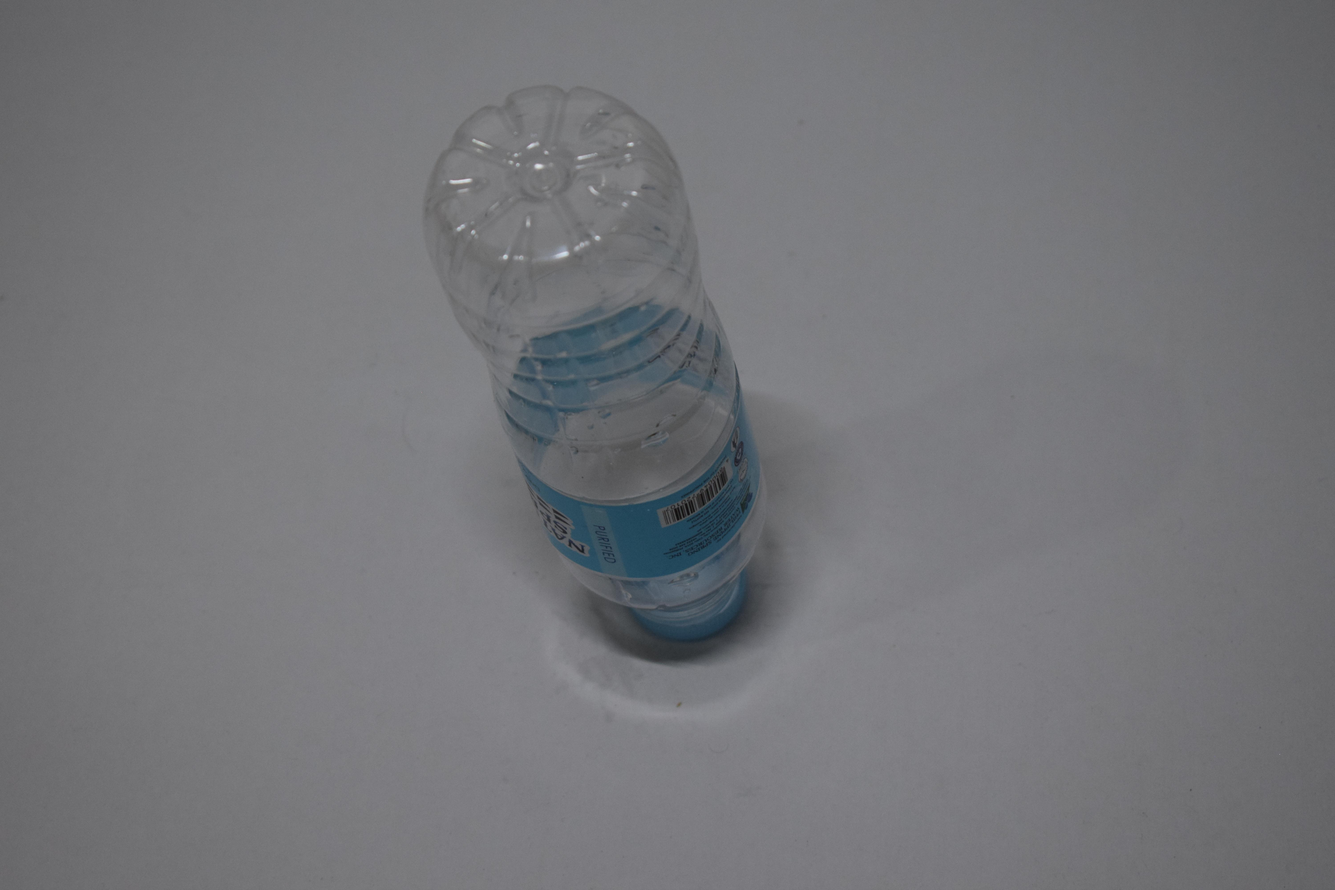plastic: (420, 84, 764, 660)
